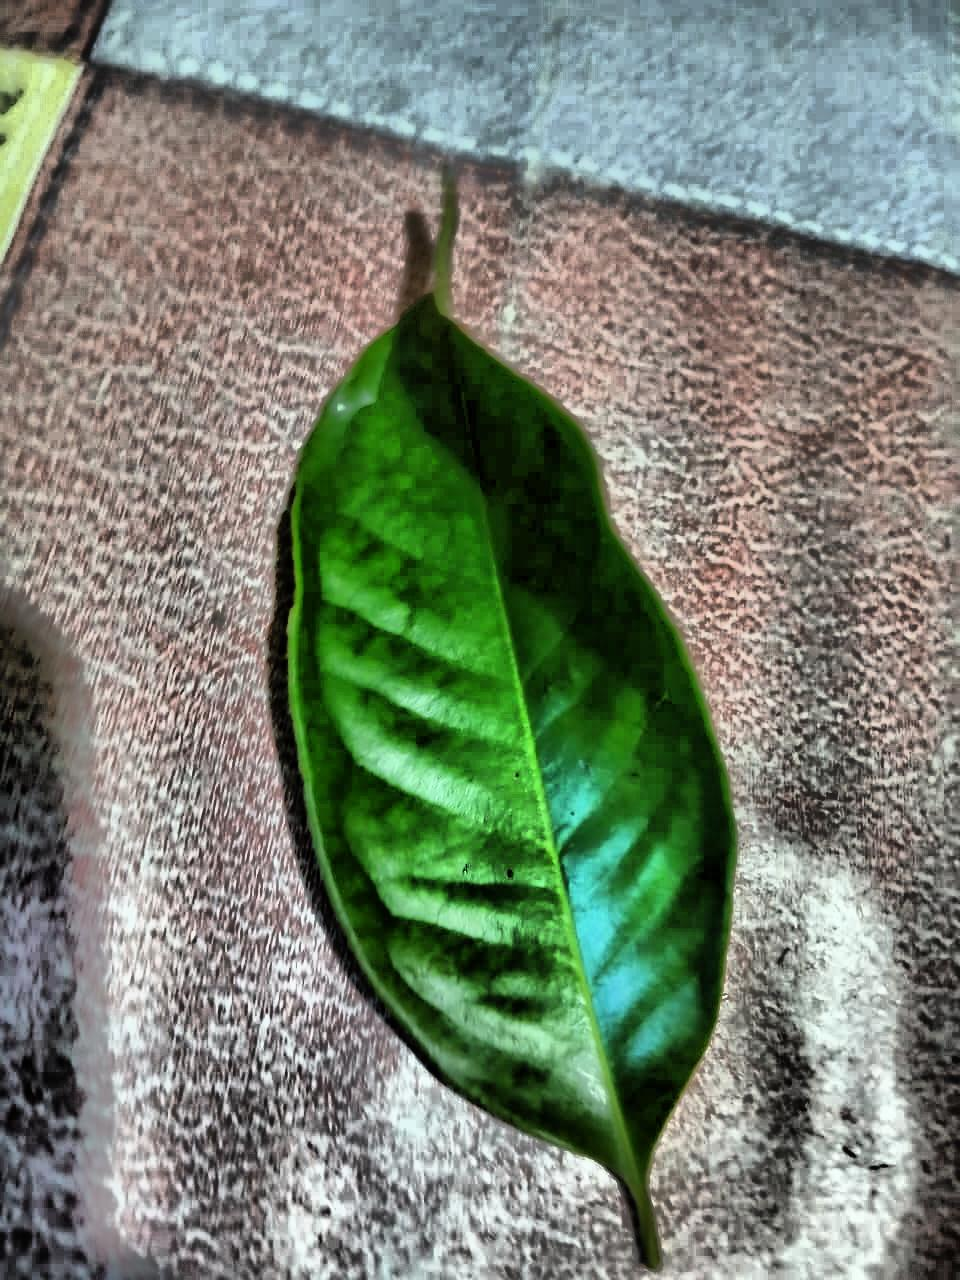daun salam: (288, 297, 734, 1264)
